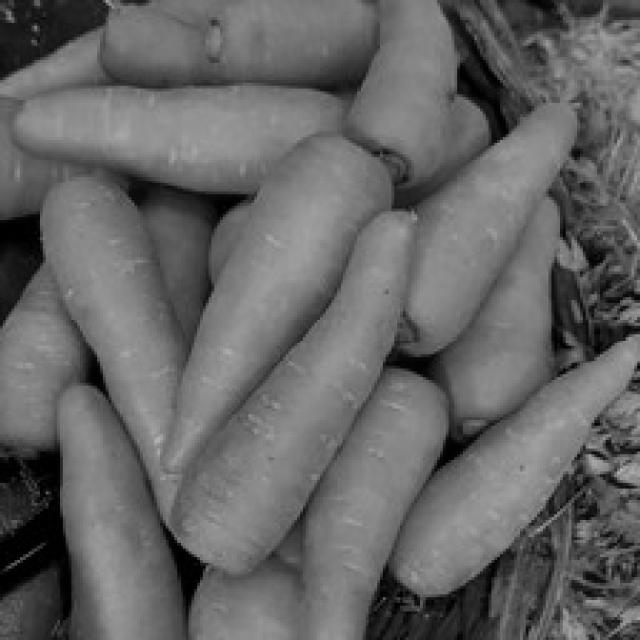Fresh_Carrot: (306, 369, 432, 640), (33, 196, 187, 415), (29, 73, 318, 177)
